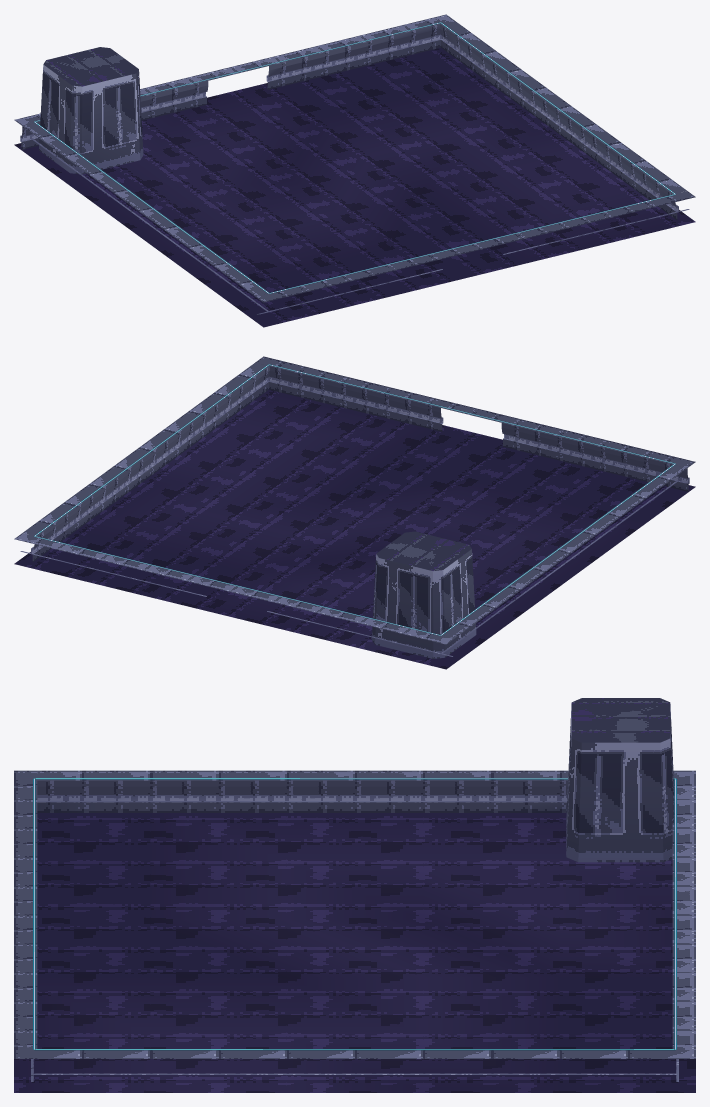
Rendered from cyroom.rooftop__arena.glb.
3 renders of one model, top to bottom at view 1: azimuth 30°, elevation 25°; view 2: azimuth 150°, elevation 25°; view 3: azimuth 270°, elevation 25°, orthographic. The views are drawn at different scales.
Parts seen in each view (by area): view 1: kit_shell_floor, kit_shell_walls, kit_trim, kit_card_lights; view 2: kit_shell_floor, kit_shell_walls, kit_trim, kit_card_lights; view 3: kit_shell_floor, kit_shell_walls, kit_trim, kit_card_lights.
Part boxes in pixels (bbox=[...]): kit_shell_floor: bbox=[14, 47, 695, 327]; kit_shell_walls: bbox=[14, 14, 695, 314]; kit_trim: bbox=[39, 47, 143, 174]; kit_card_lights: bbox=[34, 22, 675, 293]; kit_shell_floor: bbox=[14, 389, 695, 669]; kit_shell_walls: bbox=[14, 356, 695, 656]; kit_trim: bbox=[371, 531, 476, 658]; kit_card_lights: bbox=[34, 364, 675, 635]; kit_shell_floor: bbox=[14, 813, 695, 1092]; kit_shell_walls: bbox=[14, 770, 695, 1081]; kit_trim: bbox=[566, 698, 673, 862]; kit_card_lights: bbox=[33, 778, 676, 1050].
Size of the model in its own units: 20 by 3.8 by 20.
Materials: 6 (6 with a texture image).
